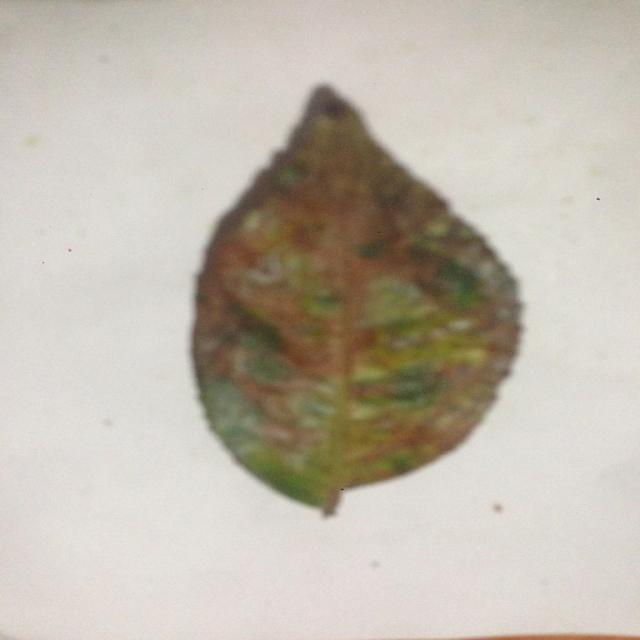Red Leaf Spot: (190, 92, 526, 527)
